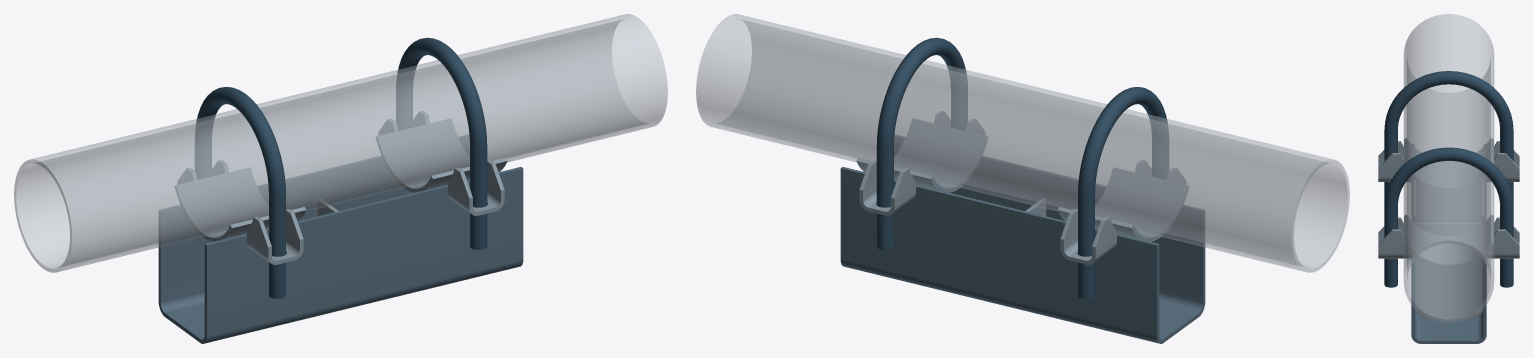
Rendered from TS-732.00.00.01-opora-dn108-L340.glb.
3 renders of one model, left to right at view 1: azimuth 30°, elevation 25°; view 2: azimuth 150°, elevation 25°; view 3: azimuth 270°, elevation 25°, orthographic. The views are drawn at different scales.
Visible parts, largest first — view 1: truba, skoba_0, homut_1, homut_0, podushka_4, podushka_5, ushko_9, ushko_7; view 2: truba, skoba_0, homut_1, homut_0, podushka_4, podushka_5, ushko_8, ushko_6; view 3: truba, homut_1, rebro4_2, homut_0, skoba_0, podushka_5, rebro4_1, podushka_4, ushko_8, ushko_9, ushko_6, ushko_7 (+1 smaller).
Part boxes in pixels (<box>): truba: <box>14,14,667,272</box>; skoba_0: <box>158,135,523,343</box>; homut_1: <box>396,37,487,249</box>; homut_0: <box>195,87,285,298</box>; podushka_4: <box>175,168,306,241</box>; podushka_5: <box>376,118,507,192</box>; ushko_9: <box>447,160,504,215</box>; ushko_7: <box>246,209,303,264</box>; truba: <box>696,14,1349,272</box>; skoba_0: <box>840,135,1205,343</box>; homut_1: <box>876,37,967,249</box>; homut_0: <box>1078,87,1168,298</box>; podushka_4: <box>1057,168,1188,241</box>; podushka_5: <box>856,118,987,192</box>; ushko_8: <box>859,160,916,215</box>; ushko_6: <box>1060,209,1117,264</box>; truba: <box>1403,14,1494,322</box>; homut_1: <box>1384,147,1513,287</box>; rebro4_2: <box>1415,257,1482,319</box>; homut_0: <box>1384,71,1513,205</box>; skoba_0: <box>1411,144,1486,343</box>; podushka_5: <box>1404,214,1493,267</box>; rebro4_1: <box>1415,181,1482,222</box>; podushka_4: <box>1404,138,1493,190</box>; ushko_8: <box>1487,217,1519,258</box>; ushko_9: <box>1378,217,1410,258</box>; ushko_6: <box>1487,141,1519,181</box>; ushko_7: <box>1378,141,1410,181</box>.
Size of the model in its own units: 640 by 229 by 169.
